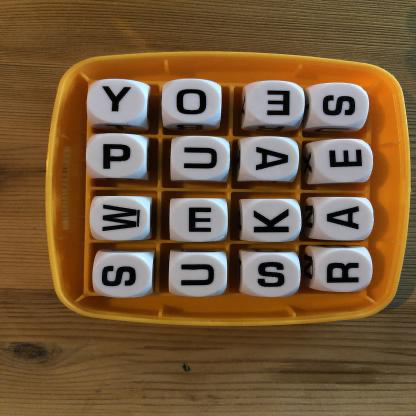a: (312, 198, 373, 243), (241, 136, 299, 182)
e: (246, 81, 305, 126), (170, 198, 228, 242), (314, 140, 373, 183)
k: (241, 199, 303, 242)
o: (164, 83, 222, 125)
p: (86, 134, 148, 179)
r: (314, 249, 373, 293)
s: (94, 253, 153, 298), (244, 252, 301, 297), (311, 85, 369, 127)
u: (169, 253, 228, 298), (171, 137, 230, 181)
w: (90, 196, 150, 241)
y: (90, 82, 149, 125)
